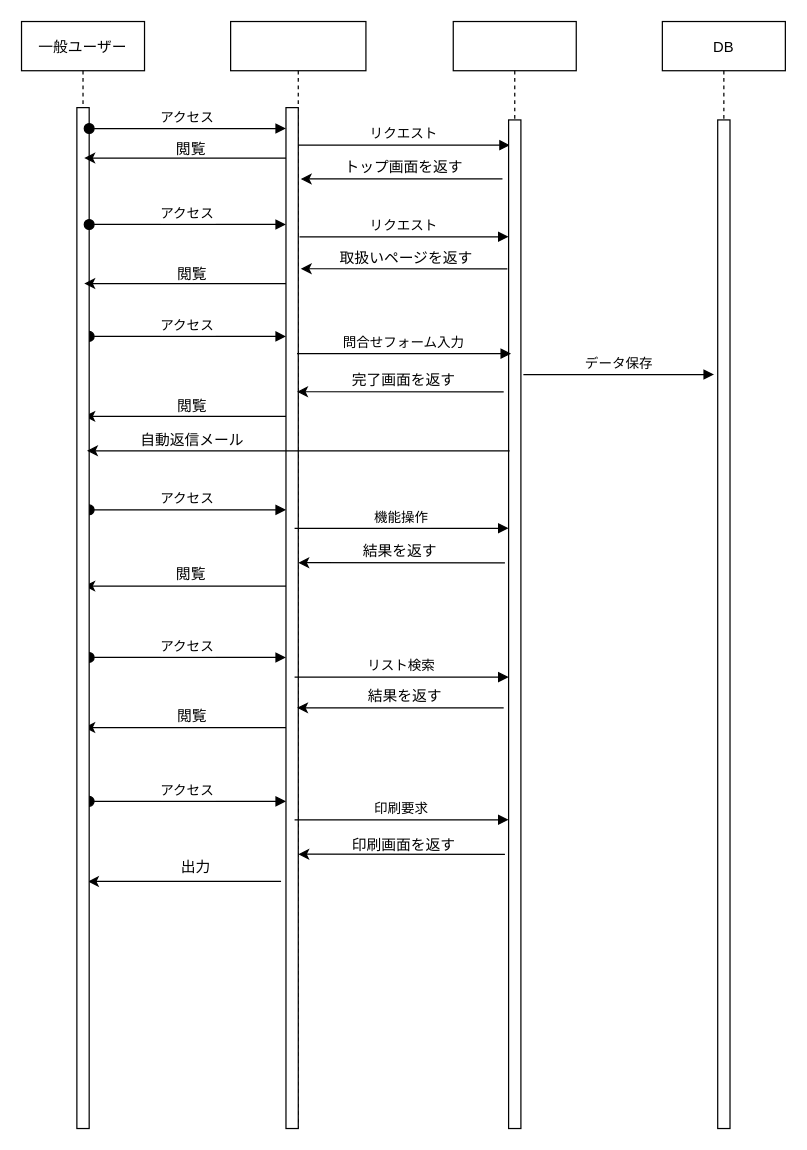
This 807x1150 diagram has some shape labels left out. The shapes that lost their labels are listed below. From the top down, each one's box as (x1, y1, x2, y2) in pixels, then its label:
(229, 20, 366, 1129): サイト
(452, 20, 576, 1129): Webサーバ
